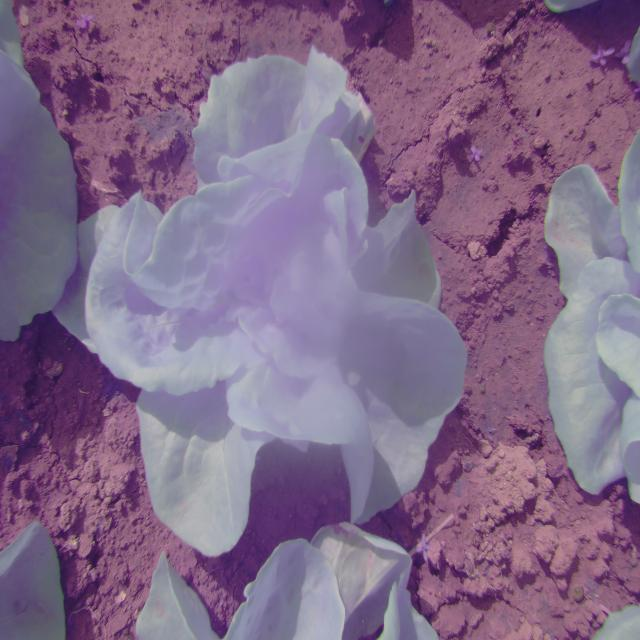vege: (72, 45, 471, 558)
